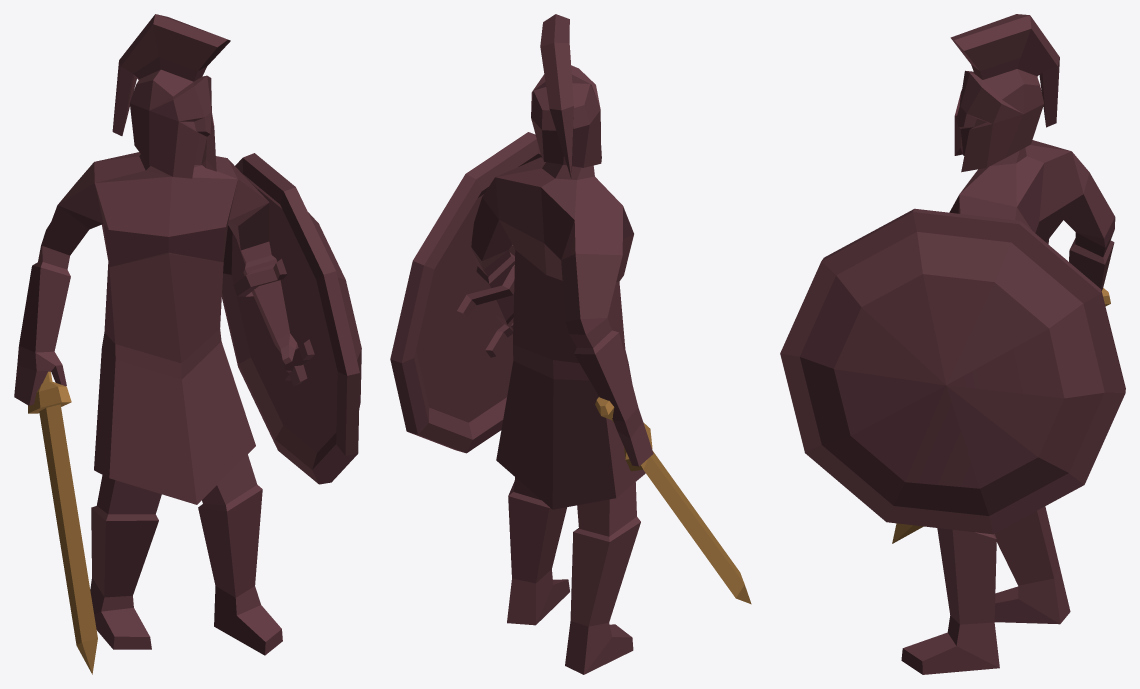
Rendered from SM_Statue_Small_Ares_Empire.fbx.
3 renders of one model, left to right at view 1: azimuth 30°, elevation 25°; view 2: azimuth 150°, elevation 25°; view 3: azimuth 270°, elevation 25°, orthographic. The views are drawn at different scales.
Visible parts, largest first — view 1: SM_Statue_Small_Ares_Empire; view 2: SM_Statue_Small_Ares_Empire; view 3: SM_Statue_Small_Ares_Empire.
Boxes of the visible parts, x1,y1,x2,y2 form: SM_Statue_Small_Ares_Empire: (14,14,361,674); SM_Statue_Small_Ares_Empire: (390,14,751,674); SM_Statue_Small_Ares_Empire: (780,14,1125,674).
Size of the model in its own units: 0.8886 by 1.92 by 0.966.
